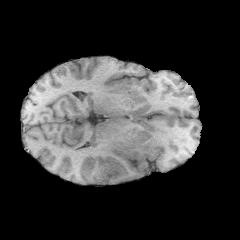glioma: (92, 143, 154, 183)
